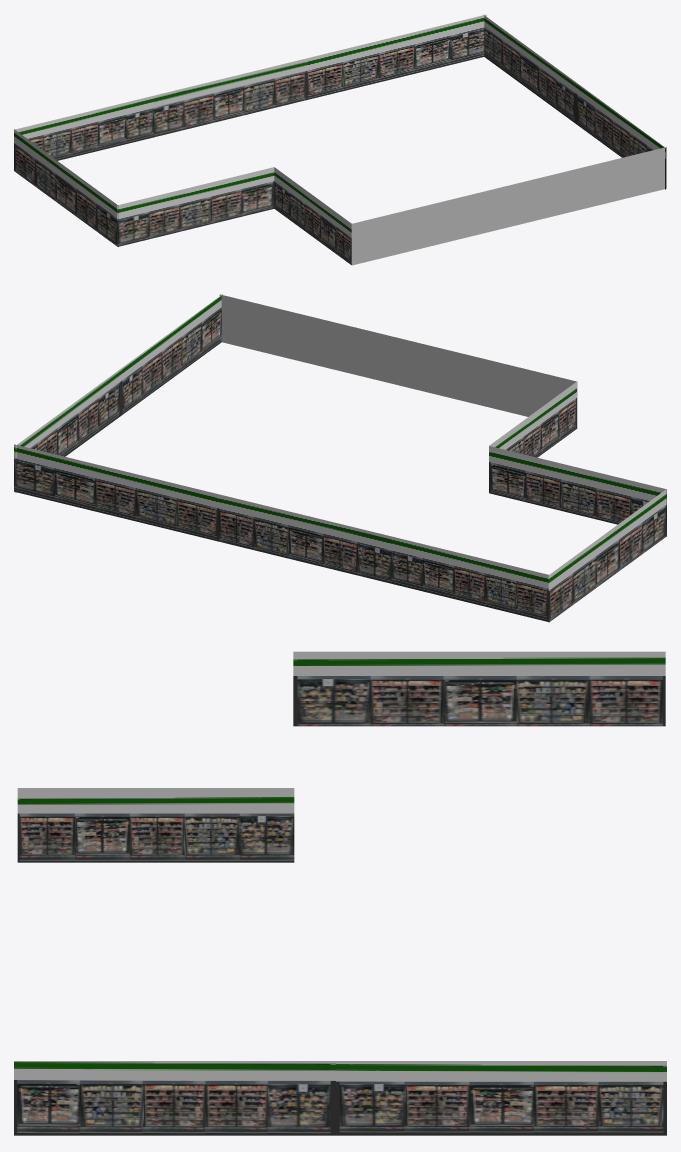
Rendered from walls_unityblend.fbx.
3 renders of one model, top to bottom at view 1: azimuth 30°, elevation 25°; view 2: azimuth 150°, elevation 25°; view 3: azimuth 270°, elevation 25°, orthographic. The views are drawn at different scales.
Parts seen in each view (by area): view 1: mur_ouest, entree, mur_nord, mur_est, mur_sud, mur_sud_small; view 2: mur_ouest, entree, mur_nord, mur_est, mur_sud, mur_sud_small; view 3: mur_nord, mur_sud, mur_sud_small.
Part boxes in pixels (x1=…): mur_ouest: x1=15, y1=14, x2=486, y2=160; entree: x1=351, y1=147, x2=666, y2=265; mur_nord: x1=483, y1=14, x2=665, y2=189; mur_est: x1=117, y1=167, x2=274, y2=246; mur_sud: x1=14, y1=129, x2=118, y2=246; mur_sud_small: x1=274, y1=167, x2=351, y2=264; mur_ouest: x1=14, y1=444, x2=548, y2=621; entree: x1=219, y1=294, x2=577, y2=428; mur_nord: x1=15, y1=294, x2=222, y2=492; mur_est: x1=489, y1=446, x2=666, y2=536; mur_sud: x1=548, y1=489, x2=666, y2=622; mur_sud_small: x1=489, y1=381, x2=576, y2=457; mur_nord: x1=14, y1=1061, x2=666, y2=1135; mur_sud: x1=293, y1=651, x2=665, y2=726; mur_sud_small: x1=17, y1=788, x2=294, y2=862.
Bounding box in the file's own units: 5281 × 448 × 3538.
